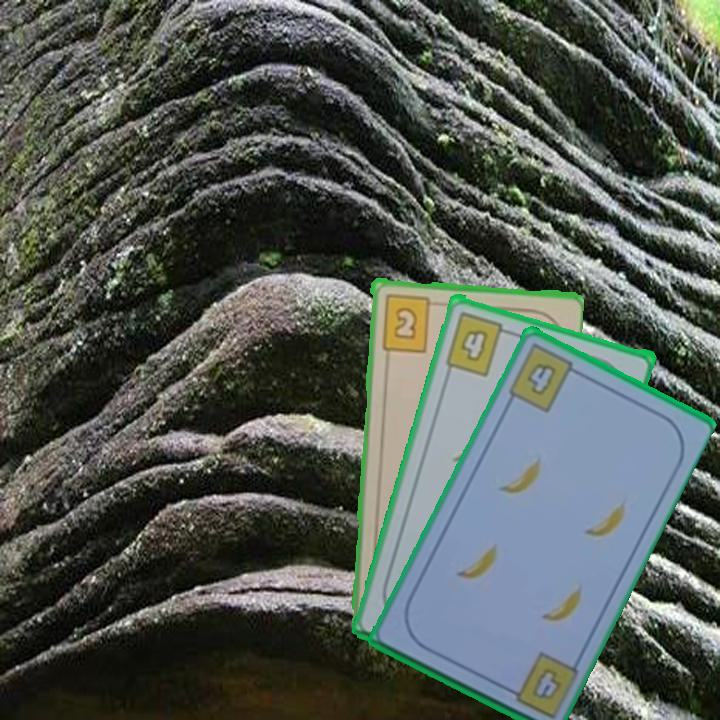2b: (377, 290, 442, 354)
4b: (504, 340, 584, 415), (441, 307, 516, 378), (528, 664, 564, 703)
